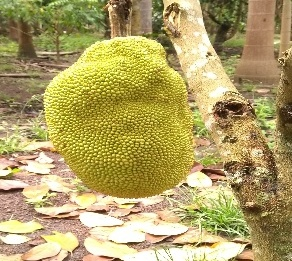Mit: (46, 36, 196, 190)
